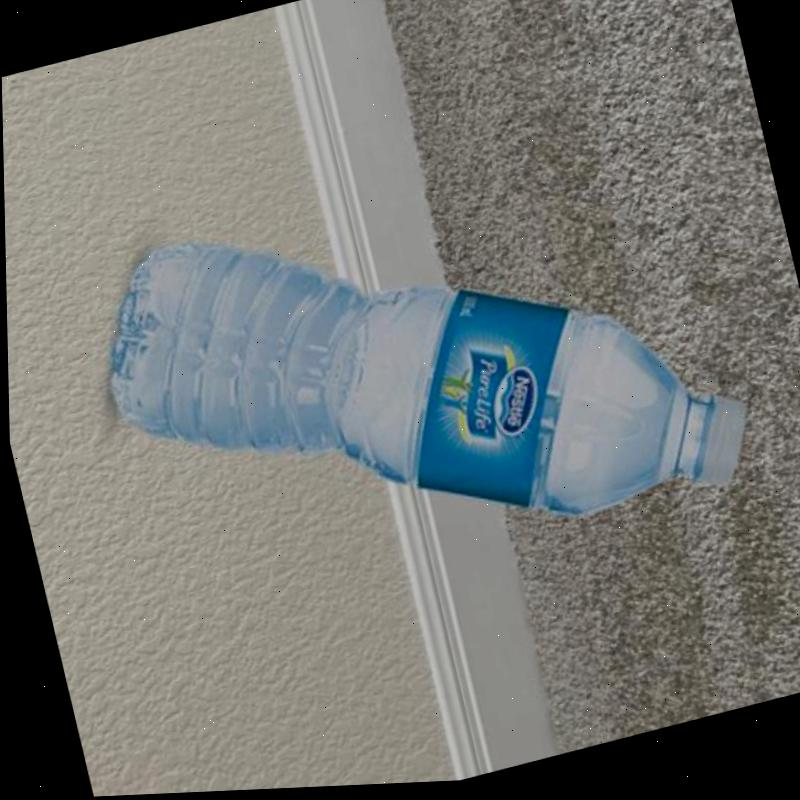botella: (69, 116, 768, 636)
